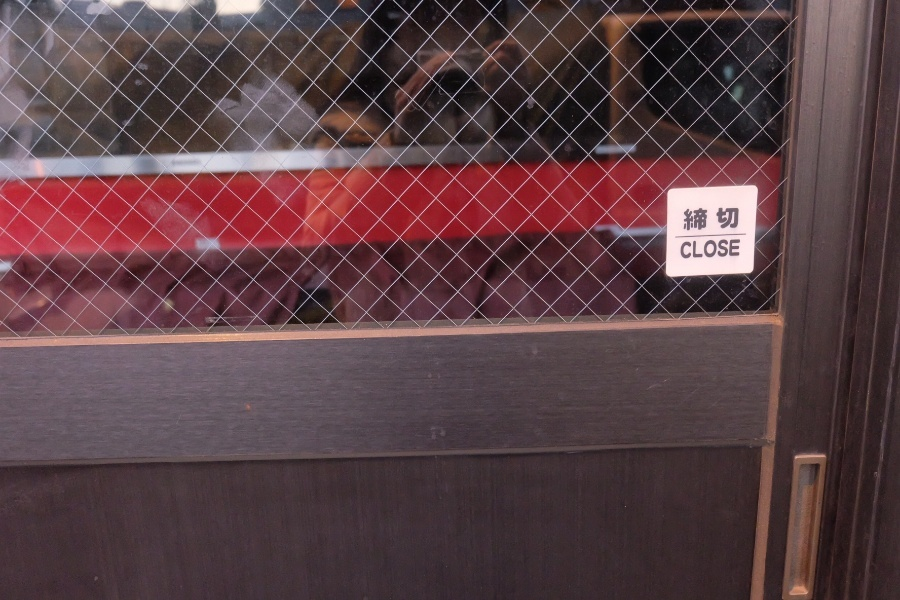text: (689, 208, 704, 231), (705, 208, 720, 231), (721, 208, 736, 231), (689, 239, 704, 259), (705, 239, 720, 259), (721, 239, 736, 259), (681, 239, 688, 259), (684, 208, 688, 231), (737, 239, 740, 259), (737, 208, 739, 231)
